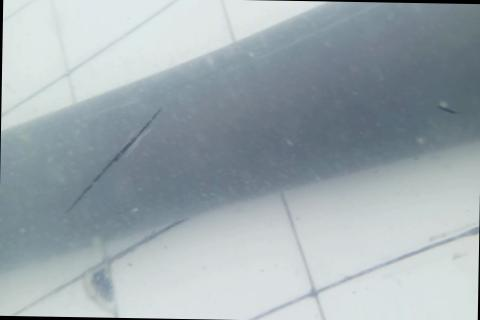keretakan: (68, 107, 162, 214)
